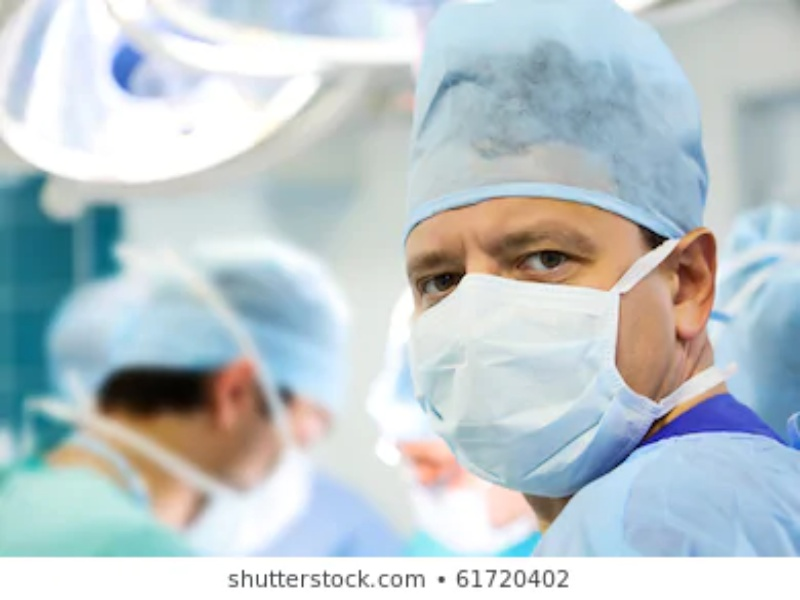ManaoArotava: (372, 84, 689, 528)
